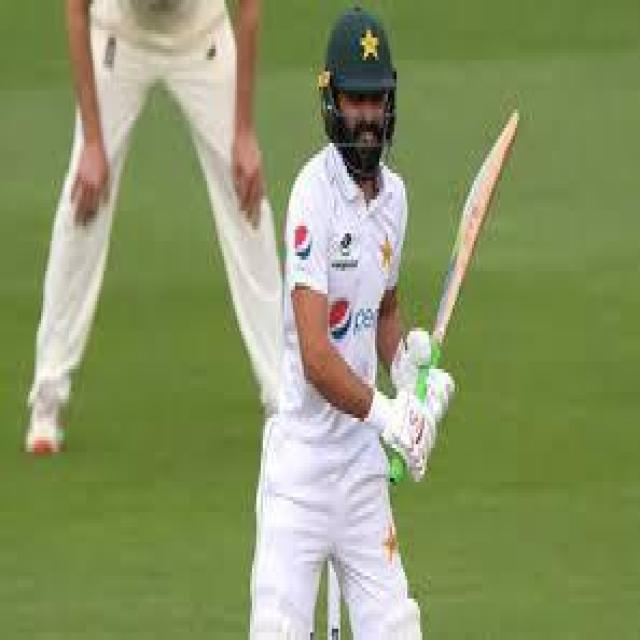bat: (428, 106, 525, 370)
toe: (494, 105, 524, 138)
